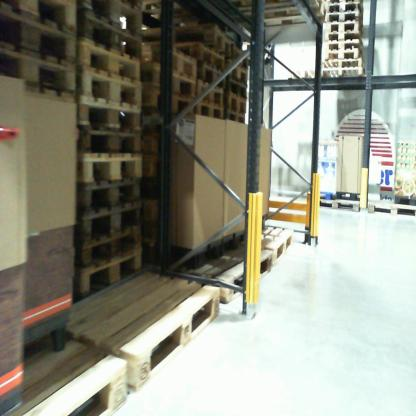pallet: (59, 265, 222, 391), (8, 328, 124, 414), (177, 243, 273, 307), (2, 16, 79, 67), (4, 47, 77, 96), (72, 197, 141, 246), (72, 234, 145, 280), (75, 40, 146, 87), (62, 150, 145, 189), (81, 253, 149, 299), (76, 17, 145, 60), (234, 222, 297, 269), (81, 180, 144, 222), (229, 2, 330, 28), (151, 19, 233, 51), (76, 70, 145, 107), (75, 104, 145, 140), (3, 3, 81, 35), (78, 128, 143, 162), (142, 42, 200, 77), (81, 3, 146, 31), (148, 68, 197, 102), (142, 89, 199, 116), (183, 39, 227, 70), (362, 194, 416, 217), (308, 196, 364, 216), (191, 80, 228, 106), (316, 67, 369, 82), (194, 101, 226, 124), (323, 39, 368, 53), (288, 64, 316, 84), (326, 23, 366, 37), (204, 69, 226, 93), (230, 45, 251, 69), (324, 31, 363, 43), (227, 78, 247, 100), (321, 59, 364, 69), (229, 64, 252, 82), (328, 5, 368, 15), (224, 95, 247, 112), (324, 15, 368, 23), (321, 52, 360, 61), (226, 111, 246, 126)
